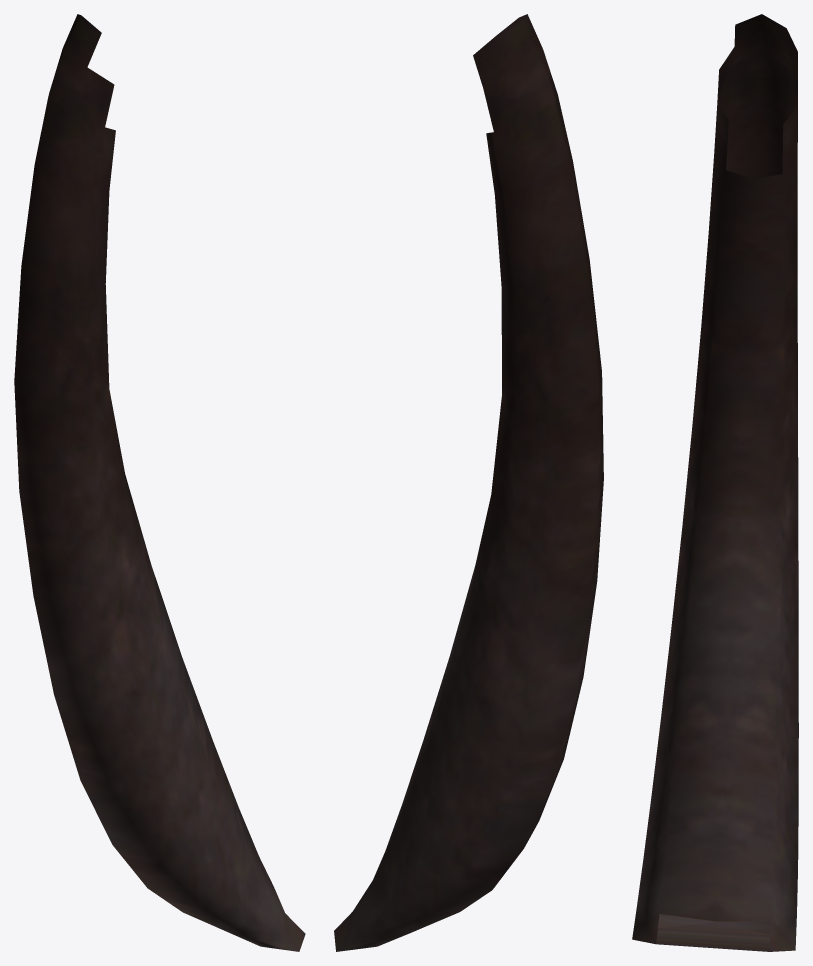
The model's file is coada.obj.
3 renders of one model, left to right at view 1: azimuth 30°, elevation 25°; view 2: azimuth 150°, elevation 25°; view 3: azimuth 270°, elevation 25°, orthographic. The views are drawn at different scales.
Parts seen in each view (by area): view 1: HORSE_3D_Models.001_HORSE_3D_Models.000; view 2: HORSE_3D_Models.001_HORSE_3D_Models.000; view 3: HORSE_3D_Models.001_HORSE_3D_Models.000.
Boxes of the visible parts, x1=… form: HORSE_3D_Models.001_HORSE_3D_Models.000: x1=14, y1=14, x2=305, y2=951; HORSE_3D_Models.001_HORSE_3D_Models.000: x1=334, y1=14, x2=603, y2=951; HORSE_3D_Models.001_HORSE_3D_Models.000: x1=632, y1=14, x2=798, y2=951.
Bounding box in the file's own units: 0.2335 × 0.8408 × 0.1469.
Materials: 1 (1 with a texture image).
